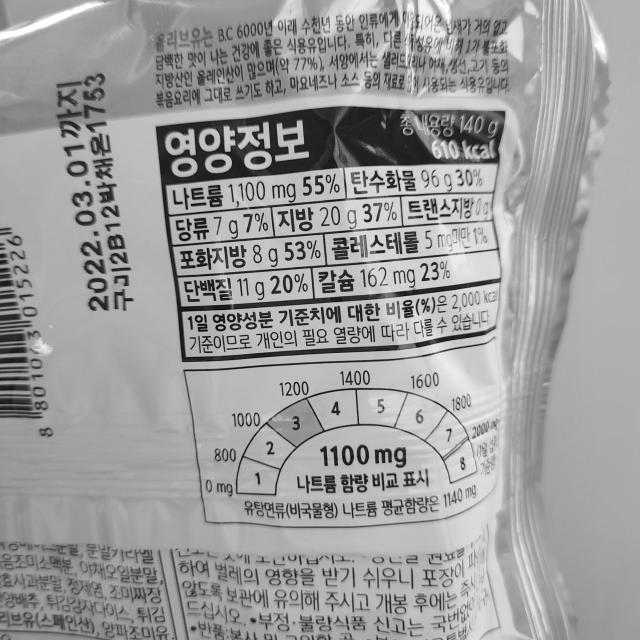Nutrition Label: (147, 107, 515, 352)
